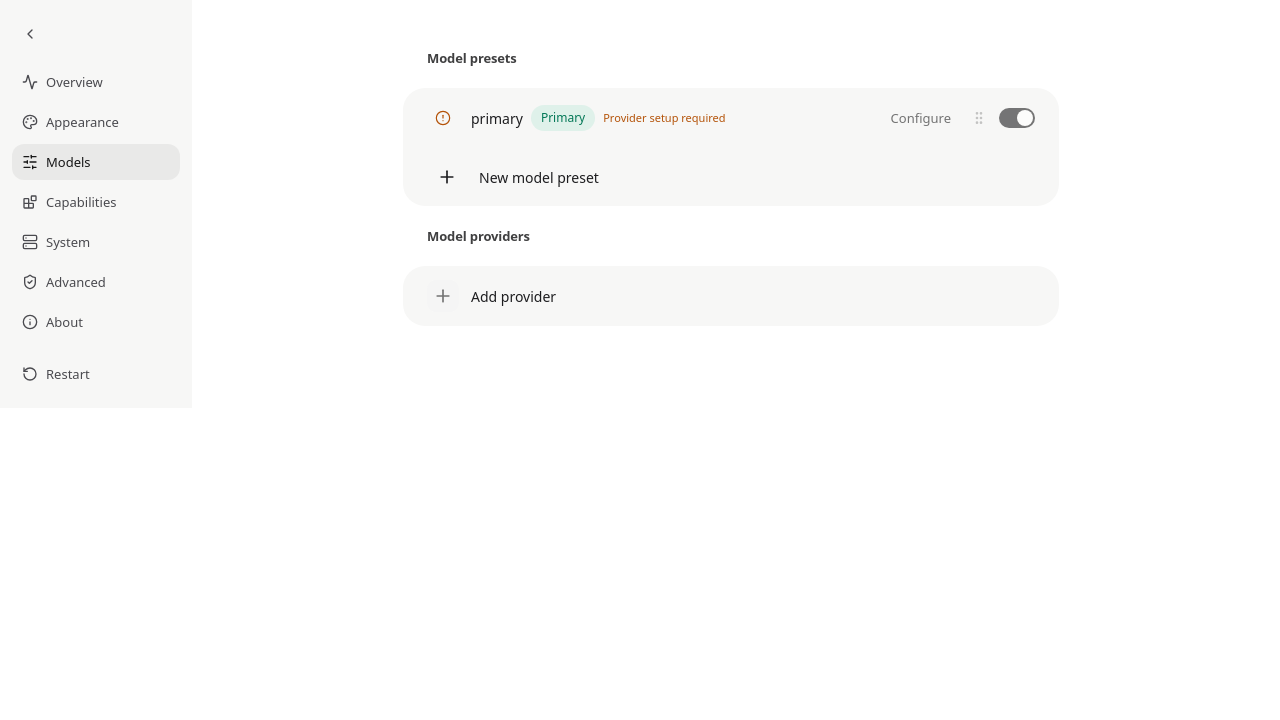
Test case: Settings models › does not fetch model lists for unsigned OAuth providers
Click the button "primary Primary Provider setup required Configure".
click(693, 118)  # box [427, 102, 959, 134]
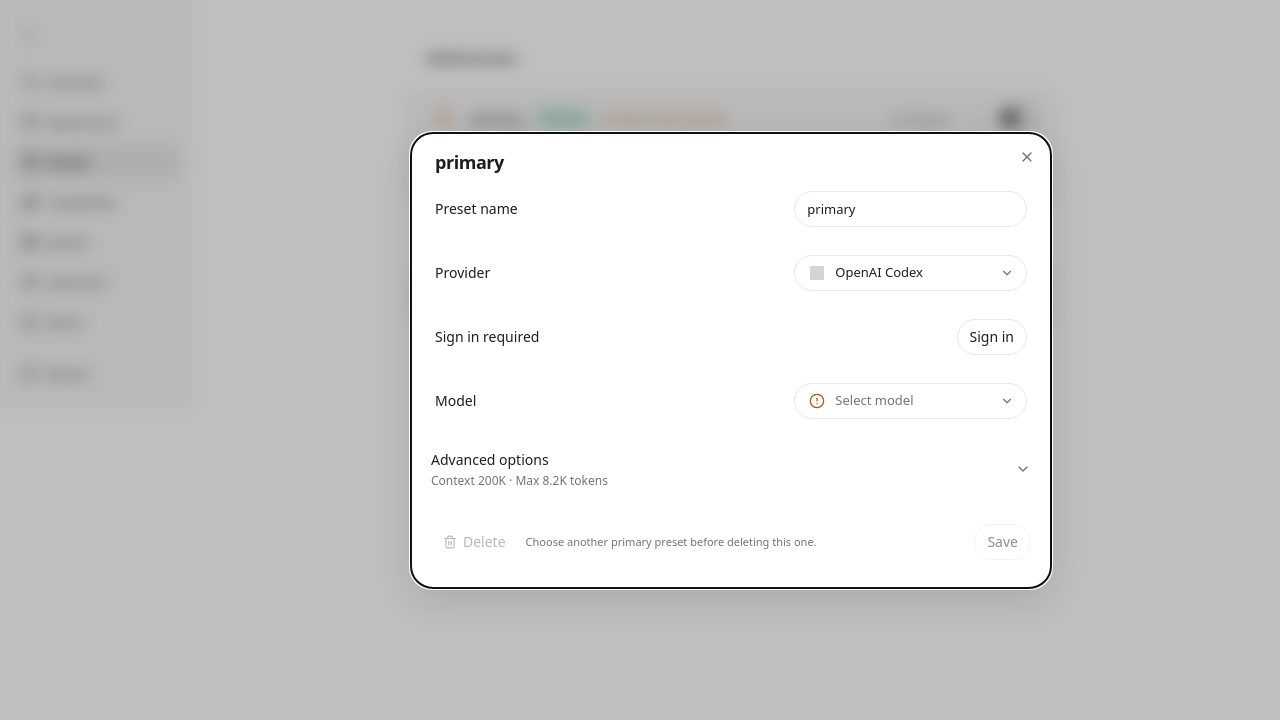
Click the button "Select model".
click(911, 400)  # box [794, 382, 1027, 418]
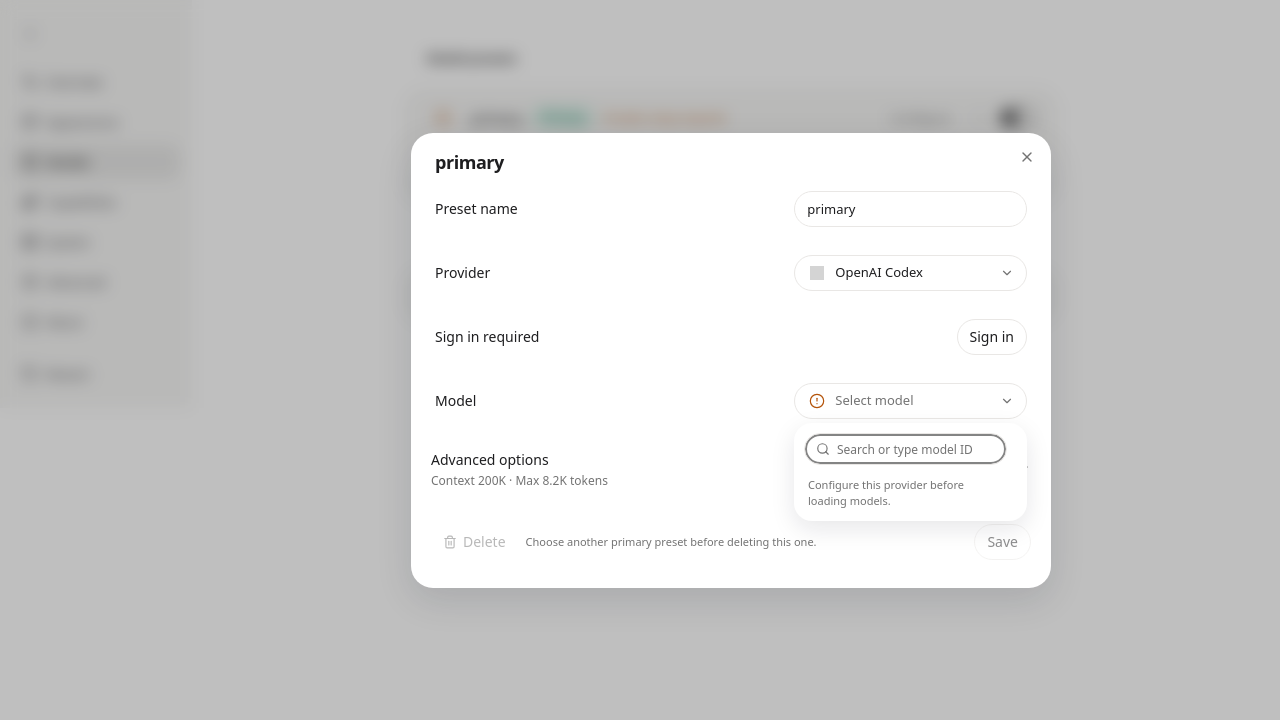
Check: the text "Configure this provider before loading models." is shown, box [808, 477, 964, 508]
